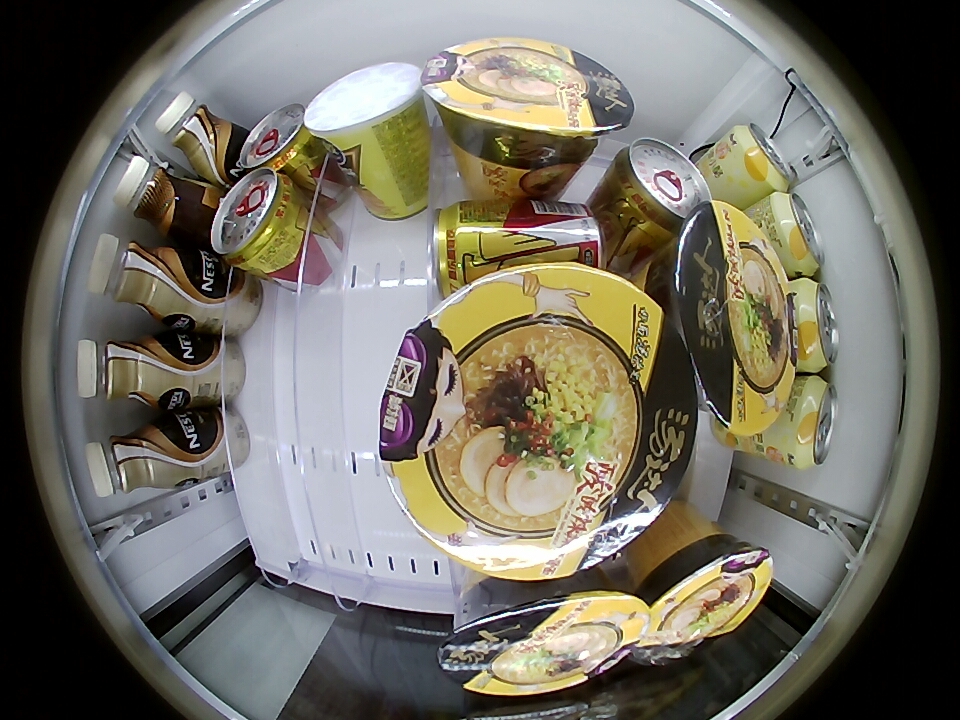dongpeng: (609, 137, 710, 235), (210, 170, 299, 268), (240, 104, 316, 175), (431, 200, 477, 299)
kafei: (87, 234, 198, 325), (113, 157, 211, 240), (76, 335, 185, 408), (85, 419, 186, 497), (155, 93, 238, 179)
kebike: (304, 62, 426, 154)
mangguoxiaolao: (784, 375, 838, 469), (769, 191, 824, 276), (791, 278, 839, 372), (730, 124, 796, 191)
tangdaren2: (378, 260, 693, 579), (668, 202, 793, 437), (422, 37, 634, 164), (438, 578, 648, 697), (635, 531, 773, 664)
